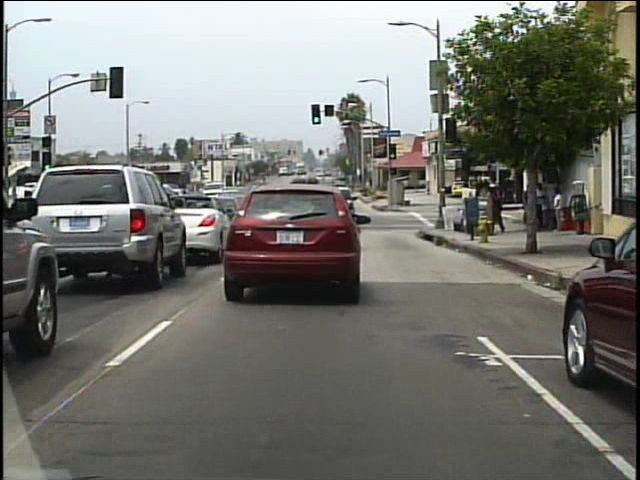person: (531, 181, 549, 232), (490, 182, 506, 234), (551, 186, 567, 234), (523, 183, 535, 220)
